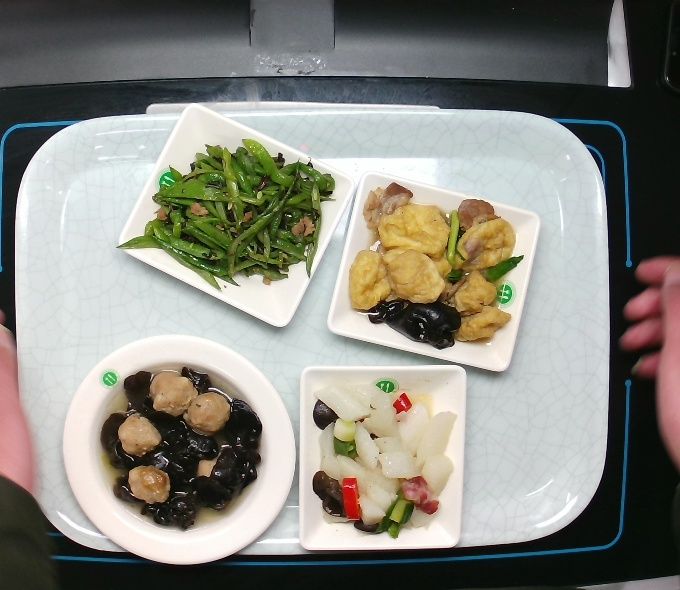wcq-MuErWanZi: (99, 366, 265, 533)
wcq-ShanYao: (306, 368, 458, 539)
wcq-SiJiDouChaoRou: (148, 139, 324, 288)
wcq-YouPaoRouPian: (344, 179, 524, 352)
